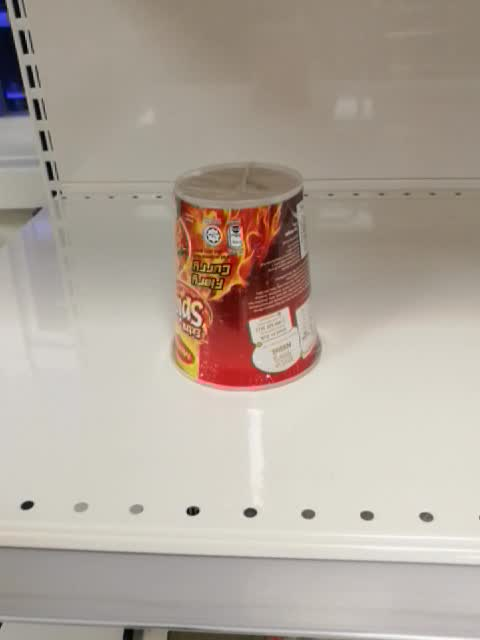maggi: (168, 157, 323, 392)
